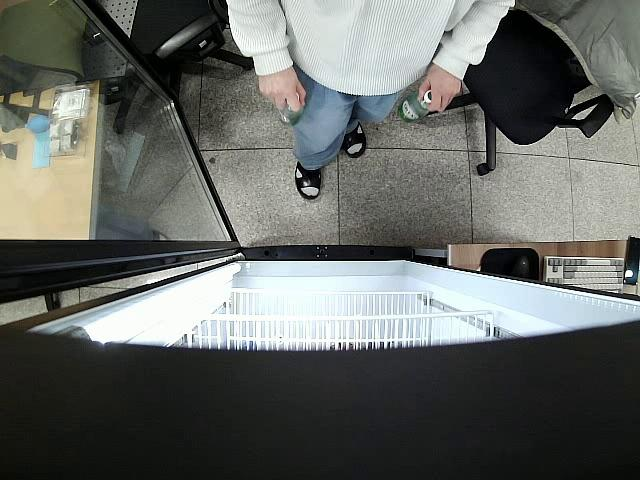00_hand: (259, 61, 307, 112), (418, 63, 461, 114)
18_trevi: (397, 88, 432, 125), (279, 91, 305, 127)
